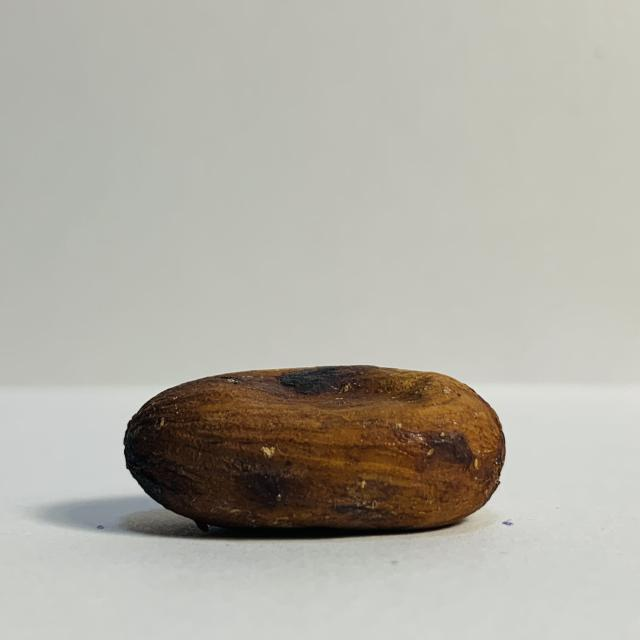Fine_cocoabeans: (67, 341, 528, 557)
